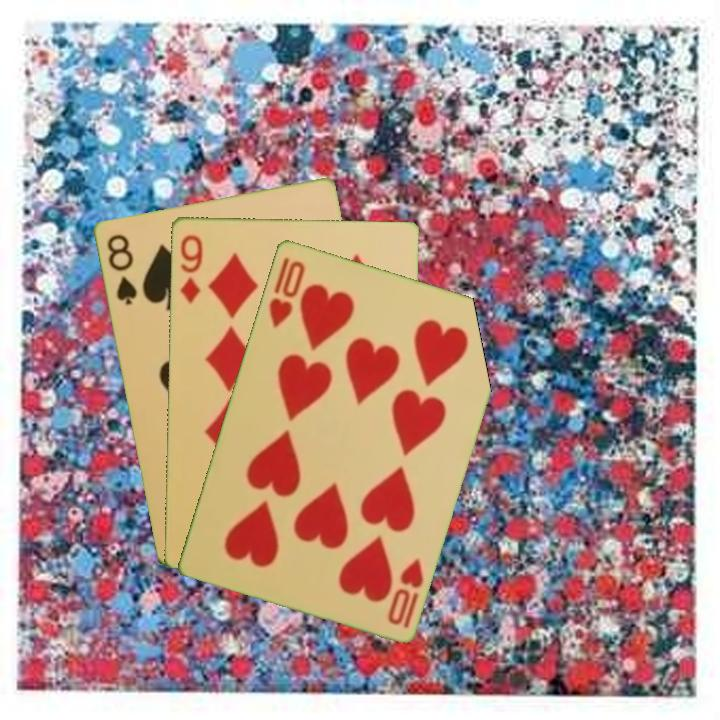10h: (264, 256, 308, 331), (384, 553, 426, 631)
8s: (103, 230, 140, 308)
9d: (176, 231, 205, 306)
